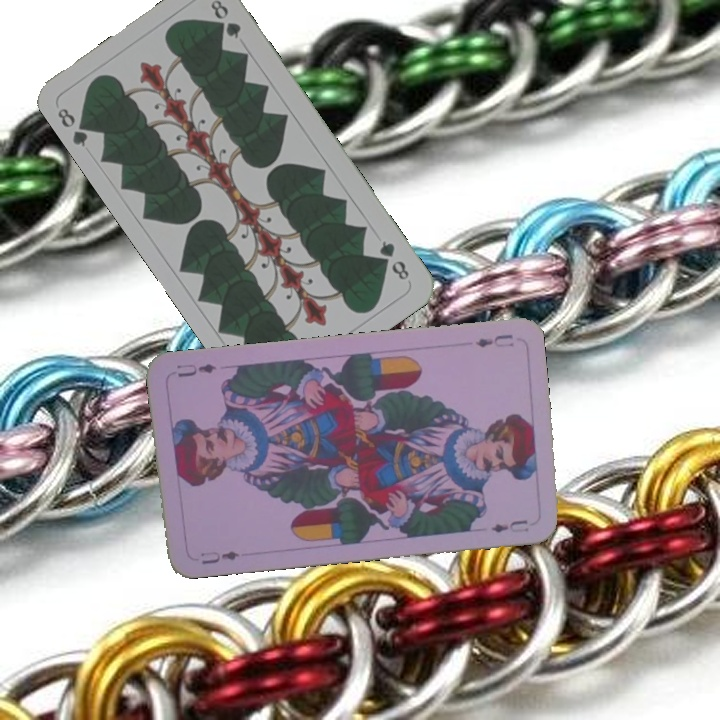EU: (196, 547, 248, 567), (472, 330, 516, 350)
G8: (53, 103, 95, 150), (375, 236, 412, 283)
